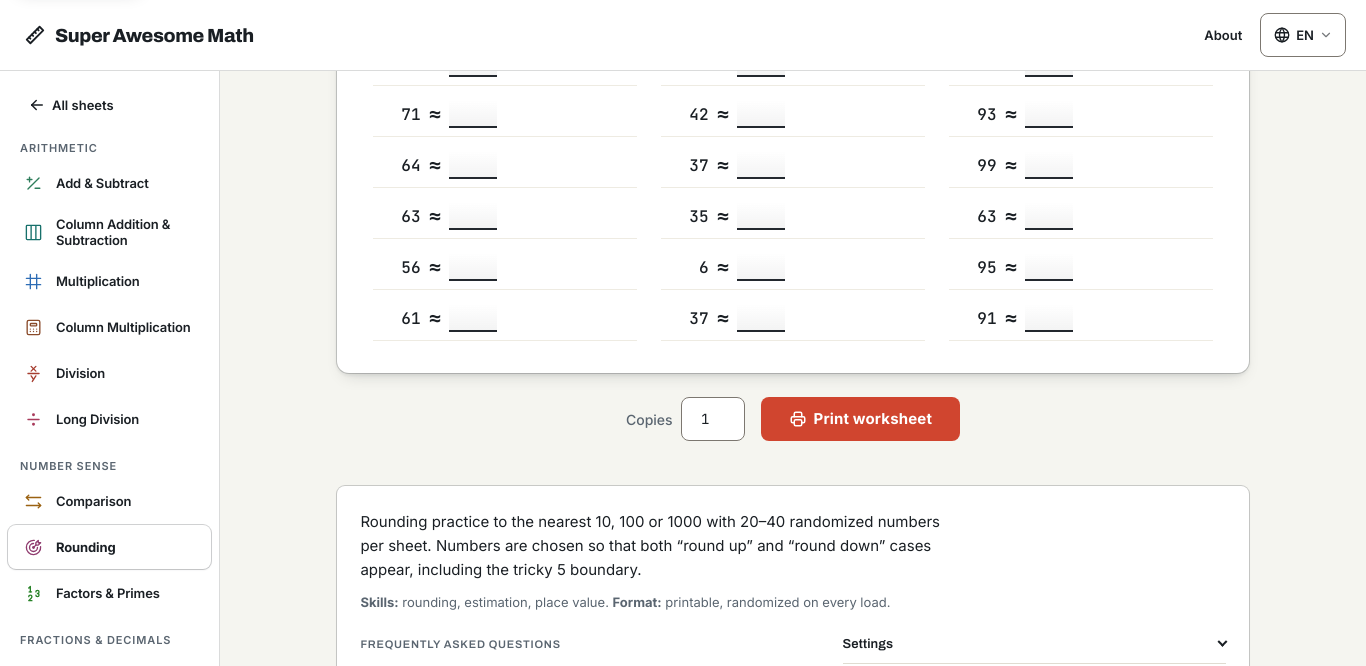
it: copies › prints that many different sheets with their own answer keys, keeps the count across sheets and reports it
This screenshot has width=1366, height=666.
(page scrolled)
Replace the text in the number field labelled "Copies" with "3" at (713, 419), box left=681, top=397, right=745, bottom=441
(page scrolled)
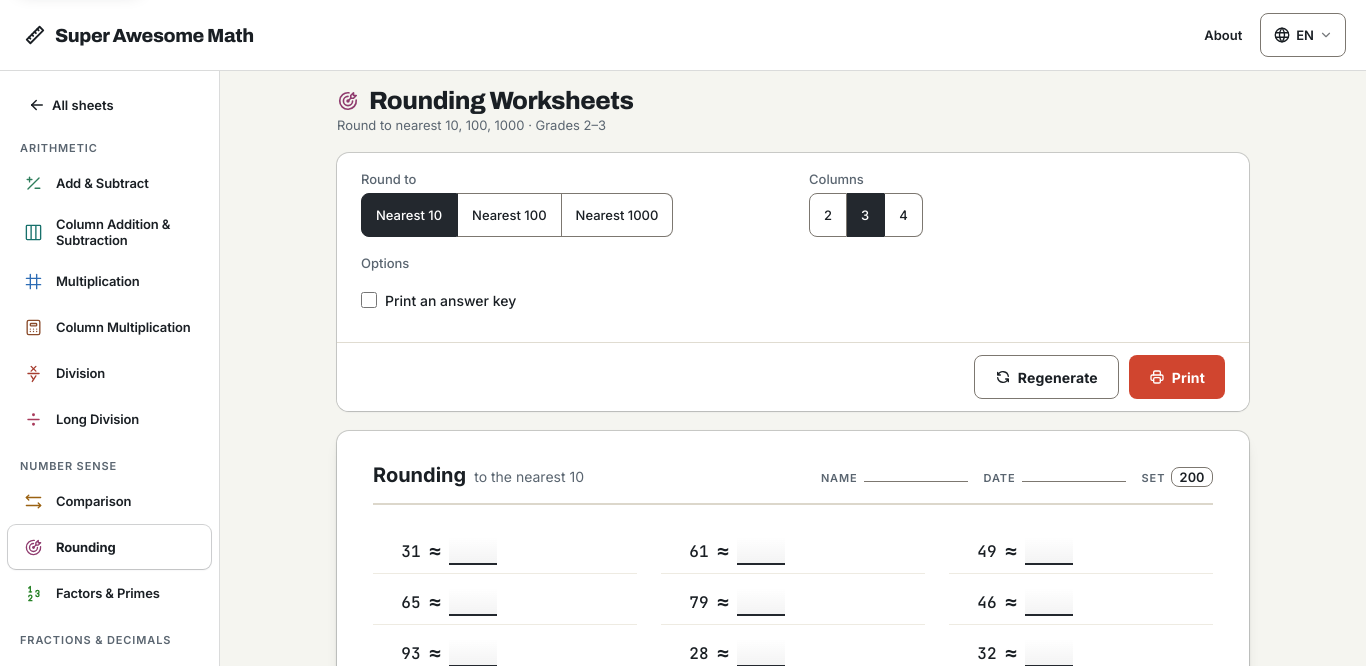
Check: the number of buttons with class "ws-stamp-btn" is 1, box left=1179, top=469, right=1205, bottom=485
Click the checkbox labelled "Print an answer key" at (369, 300), box left=361, top=292, right=377, bottom=308
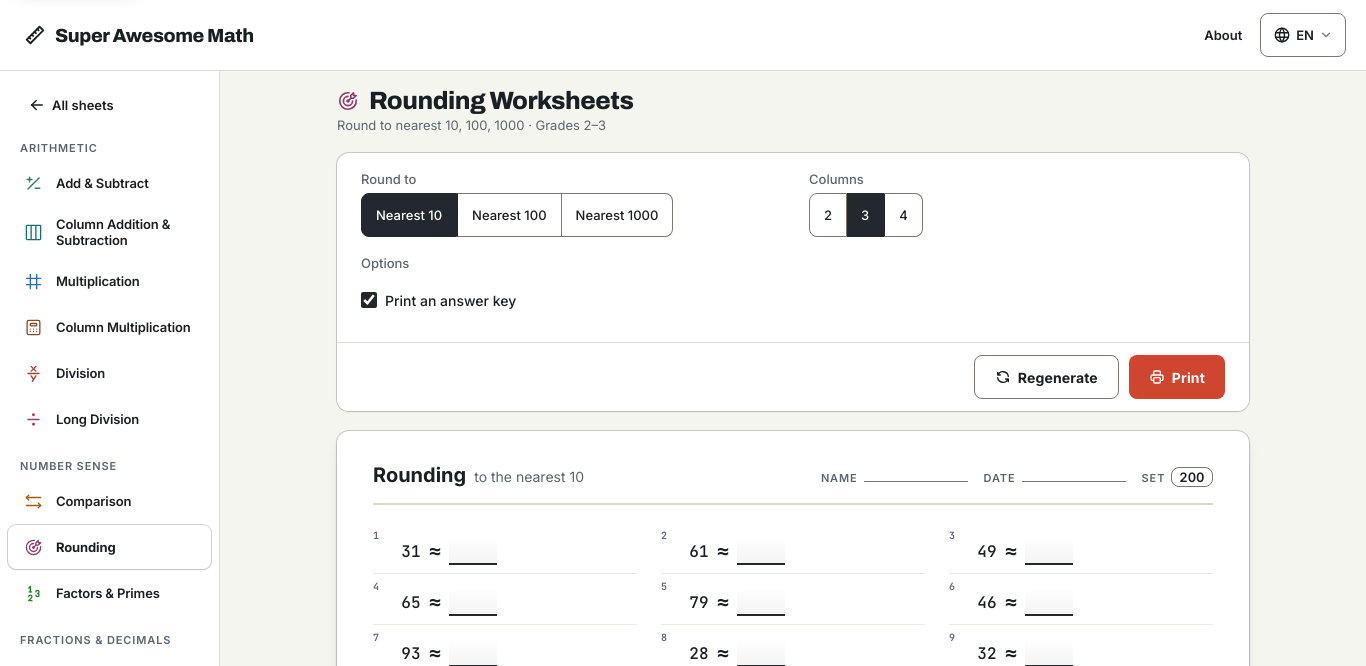
# The count is a print option of the visit, not of one sheet.
Click the link "Comparison" at (77, 501), box left=24, top=492, right=131, bottom=510
(page scrolled)
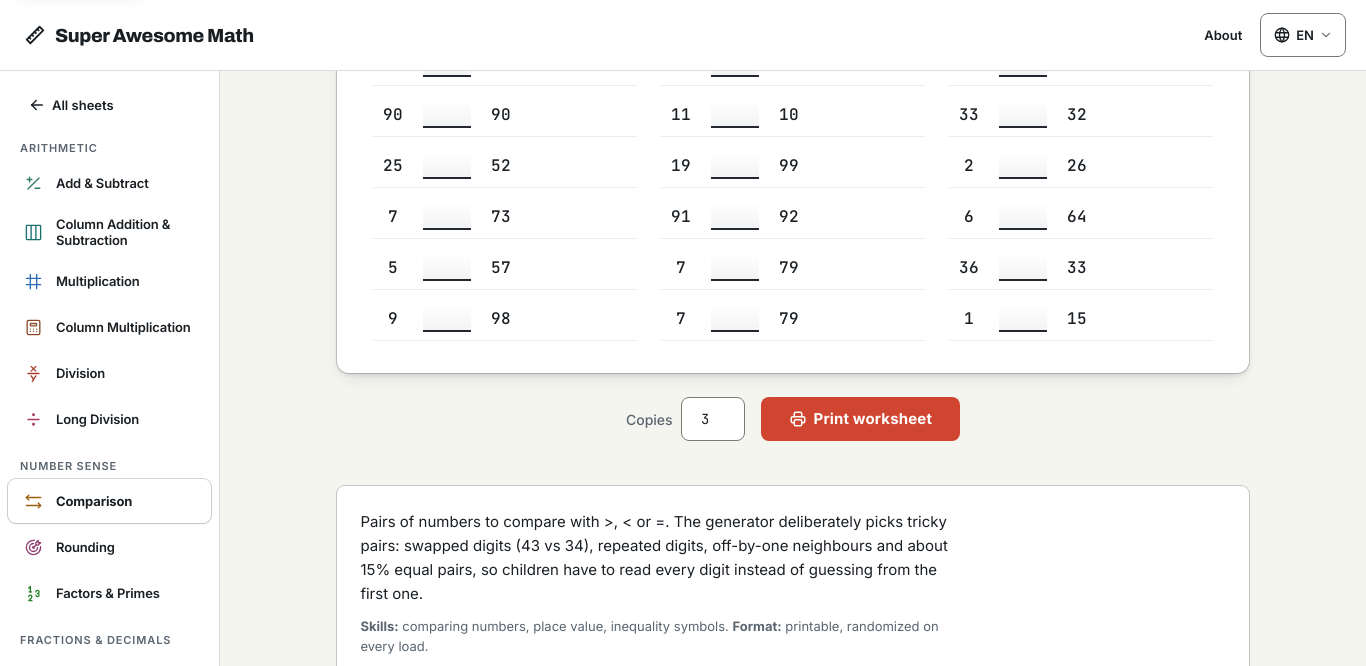
Replace the text in the number field labelled "Copies" with "25" at (713, 419), box left=681, top=397, right=745, bottom=441
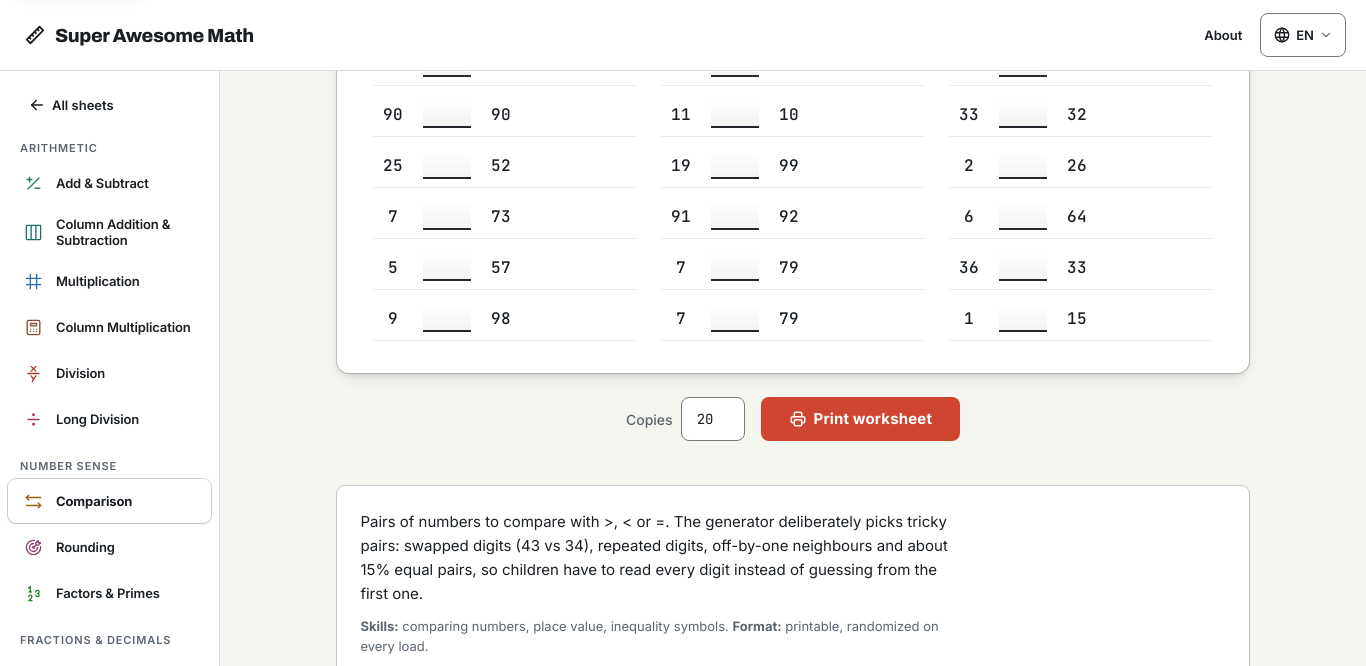
Check: the number field labelled "Copies" holds "20", box left=681, top=397, right=745, bottom=441
